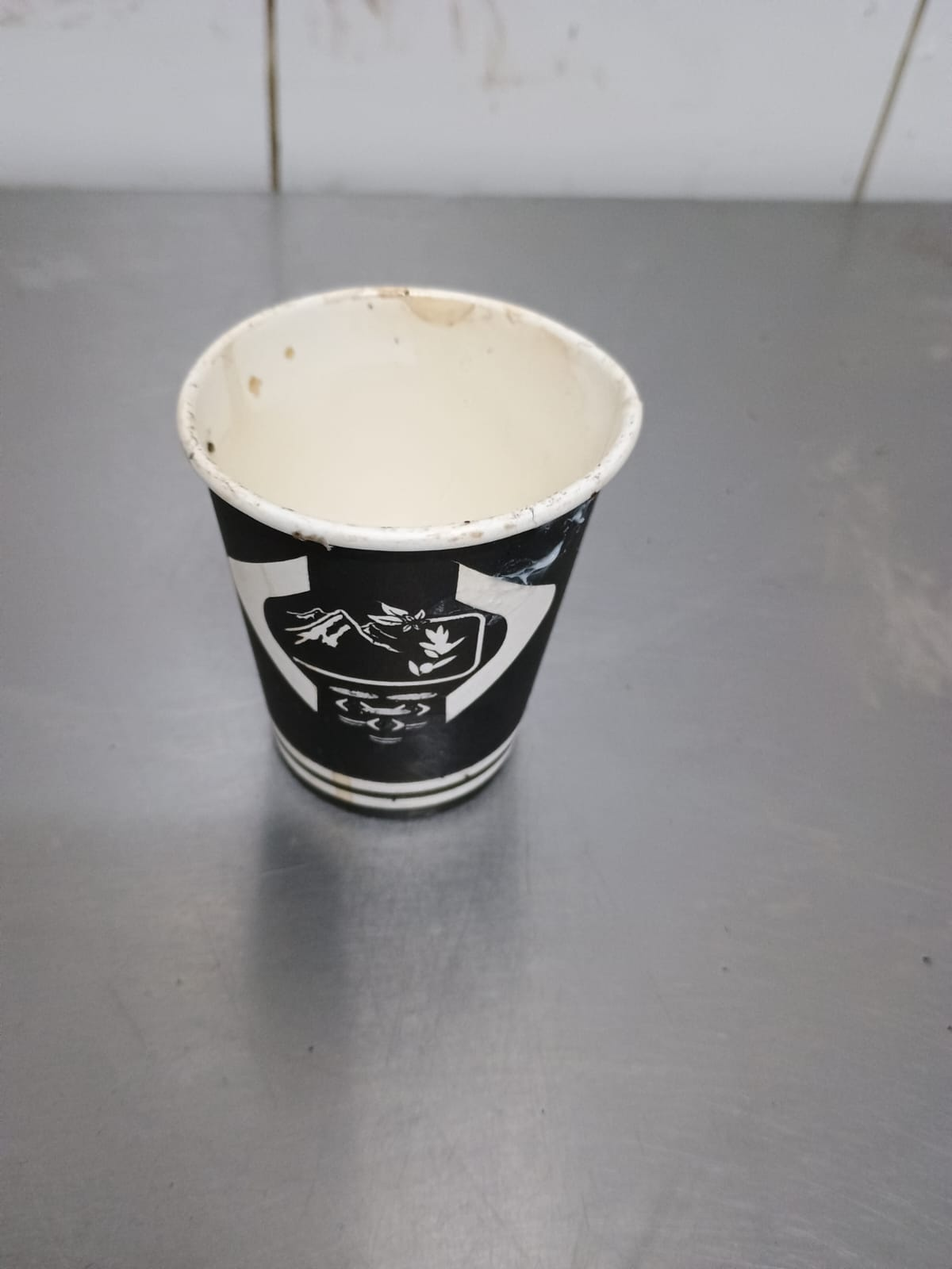Carton: (175, 287, 644, 819)
